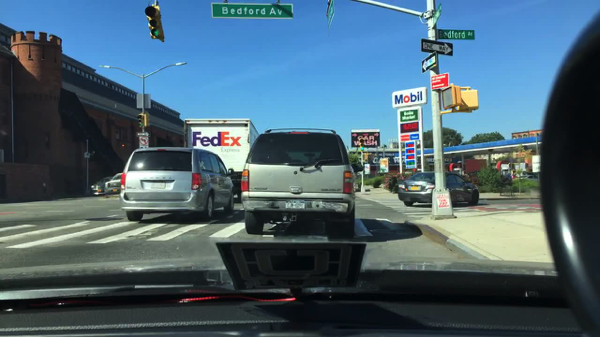car: (241, 127, 363, 237), (120, 147, 235, 222), (397, 170, 478, 206), (90, 176, 113, 196), (104, 174, 124, 196), (516, 174, 539, 179), (352, 183, 360, 192)
traffic light: (145, 6, 165, 42), (442, 84, 461, 110), (458, 89, 479, 111), (143, 113, 149, 127), (359, 137, 364, 151), (367, 154, 375, 162), (138, 114, 142, 128), (360, 154, 366, 162), (121, 142, 125, 148)
traffic sign: (212, 2, 293, 19), (419, 38, 454, 55), (436, 29, 475, 39), (421, 51, 437, 74), (431, 73, 448, 89), (325, 0, 333, 32), (136, 92, 151, 109), (433, 4, 440, 29), (532, 155, 539, 171), (138, 136, 148, 147), (513, 162, 524, 171), (136, 131, 151, 137), (363, 164, 370, 175)
truck: (183, 118, 259, 200)
